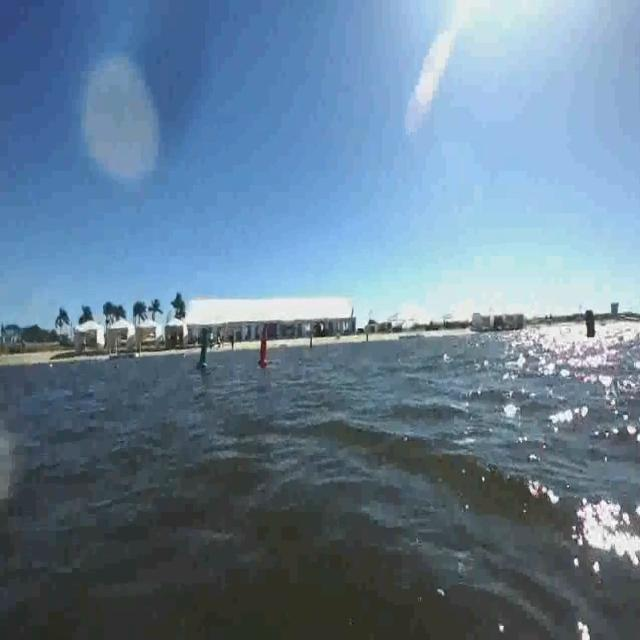green-column-buoy: (198, 326, 213, 369)
red-column-buoy: (259, 328, 273, 368)
